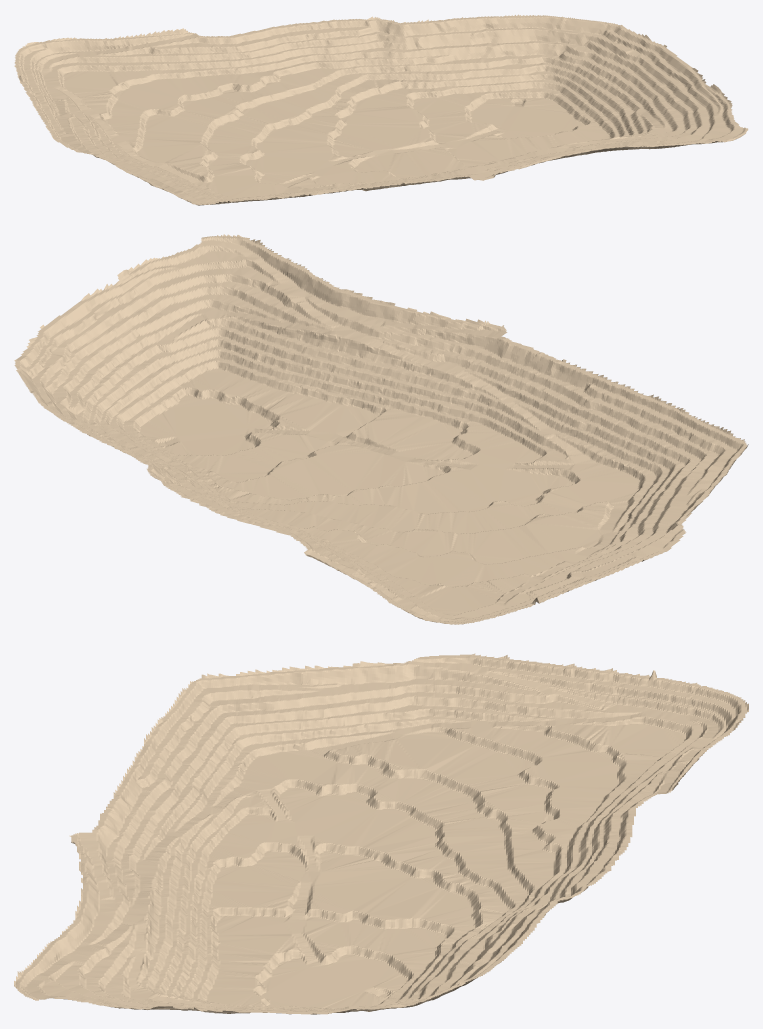
File: pit_02.glb
3 views of the same model, one above another, from view 1: azimuth 30°, elevation 25°; view 2: azimuth 150°, elevation 25°; view 3: azimuth 270°, elevation 25° (orthographic). The views are drawn at different scales.
Size of the model in its own units: 2230 by 192 by 1920.
